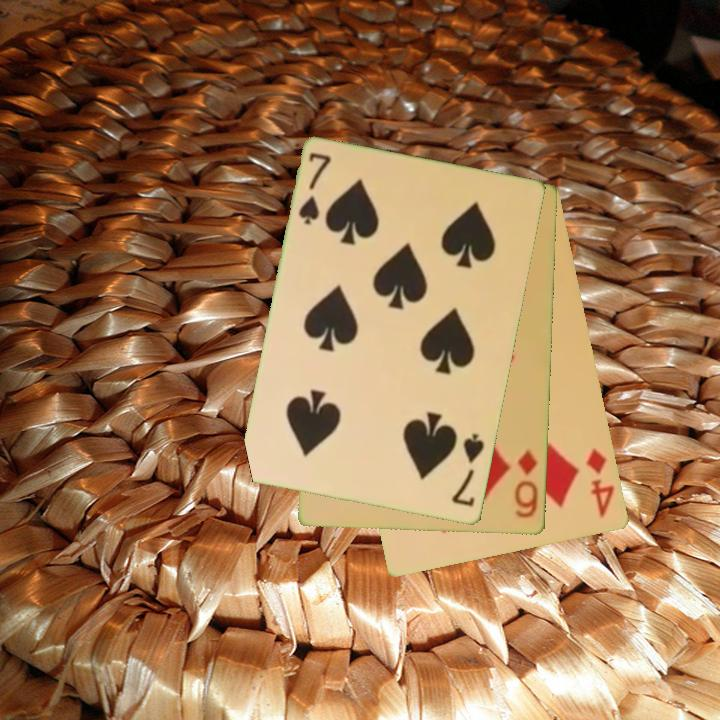4d: (583, 444, 618, 521)
6d: (512, 446, 541, 522)
7s: (448, 430, 488, 510), (295, 149, 334, 228)
